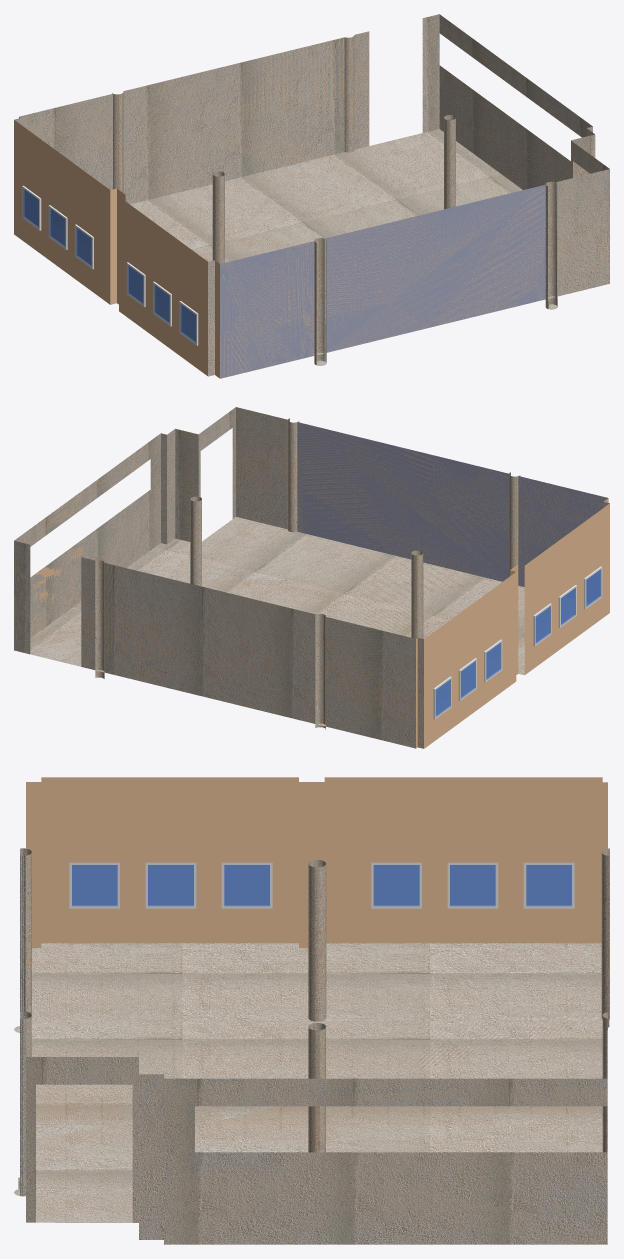
File: AUL007.obj
3 renders of one model, top to bottom at view 1: azimuth 30°, elevation 25°; view 2: azimuth 150°, elevation 25°; view 3: azimuth 270°, elevation 25°, orthographic. The views are drawn at different scales.
Parts seen in each view (by area): view 1: Mesh19 AUL007 Model, Mesh21 AUL007 Model, Mesh20 AUL007 Model, Mesh22 AUL007 Model, Mesh4 Group2 AUL007 Model, Mesh1 Group1 AUL007 Model, Mesh7 Group3 AUL007 Model, Mesh13 Group5 AUL007 Model, Mesh10 Group4 AUL007 Model, Mesh16 Group6 AUL007 Model; view 2: Mesh19 AUL007 Model, Mesh22 AUL007 Model, Mesh21 AUL007 Model, Mesh20 AUL007 Model, Mesh4 Group2 AUL007 Model, Mesh1 Group1 AUL007 Model, Mesh7 Group3 AUL007 Model, Mesh13 Group5 AUL007 Model, Mesh16 Group6 AUL007 Model, Mesh10 Group4 AUL007 Model; view 3: Mesh19 AUL007 Model, Mesh21 AUL007 Model, Mesh4 Group2 AUL007 Model, Mesh7 Group3 AUL007 Model, Mesh10 Group4 AUL007 Model, Mesh13 Group5 AUL007 Model, Mesh1 Group1 AUL007 Model, Mesh16 Group6 AUL007 Model, Mesh20 AUL007 Model, Mesh22 AUL007 Model.
Boxes of the visible parts, x1,y1,x2,y2 form: Mesh19 AUL007 Model: [14, 14, 609, 378]; Mesh21 AUL007 Model: [212, 171, 224, 263]; Mesh20 AUL007 Model: [444, 115, 455, 209]; Mesh22 AUL007 Model: [112, 91, 123, 192]; Mesh4 Group2 AUL007 Model: [22, 185, 41, 230]; Mesh1 Group1 AUL007 Model: [179, 301, 198, 345]; Mesh7 Group3 AUL007 Model: [126, 262, 145, 307]; Mesh13 Group5 AUL007 Model: [48, 205, 67, 249]; Mesh10 Group4 AUL007 Model: [153, 281, 171, 326]; Mesh16 Group6 AUL007 Model: [75, 224, 93, 269]; Mesh19 AUL007 Model: [14, 407, 609, 748]; Mesh22 AUL007 Model: [315, 614, 325, 730]; Mesh21 AUL007 Model: [411, 550, 423, 638]; Mesh20 AUL007 Model: [190, 496, 201, 586]; Mesh4 Group2 AUL007 Model: [433, 676, 451, 719]; Mesh1 Group1 AUL007 Model: [584, 566, 602, 609]; Mesh7 Group3 AUL007 Model: [533, 603, 551, 646]; Mesh13 Group5 AUL007 Model: [458, 658, 476, 700]; Mesh16 Group6 AUL007 Model: [484, 639, 502, 682]; Mesh10 Group4 AUL007 Model: [558, 585, 576, 627]; Mesh19 AUL007 Model: [14, 777, 607, 1244]; Mesh21 AUL007 Model: [308, 860, 326, 1021]; Mesh4 Group2 AUL007 Model: [523, 862, 574, 908]; Mesh7 Group3 AUL007 Model: [221, 862, 272, 908]; Mesh10 Group4 AUL007 Model: [145, 862, 196, 908]; Mesh13 Group5 AUL007 Model: [447, 862, 498, 908]; Mesh1 Group1 AUL007 Model: [69, 862, 119, 908]; Mesh16 Group6 AUL007 Model: [371, 862, 421, 908]; Mesh20 AUL007 Model: [308, 1023, 325, 1152]; Mesh22 AUL007 Model: [601, 848, 609, 1027].
Bounding box in the file's own units: 14.08 × 3.85 × 11.72.
Materials: 8 (2 with a texture image).
